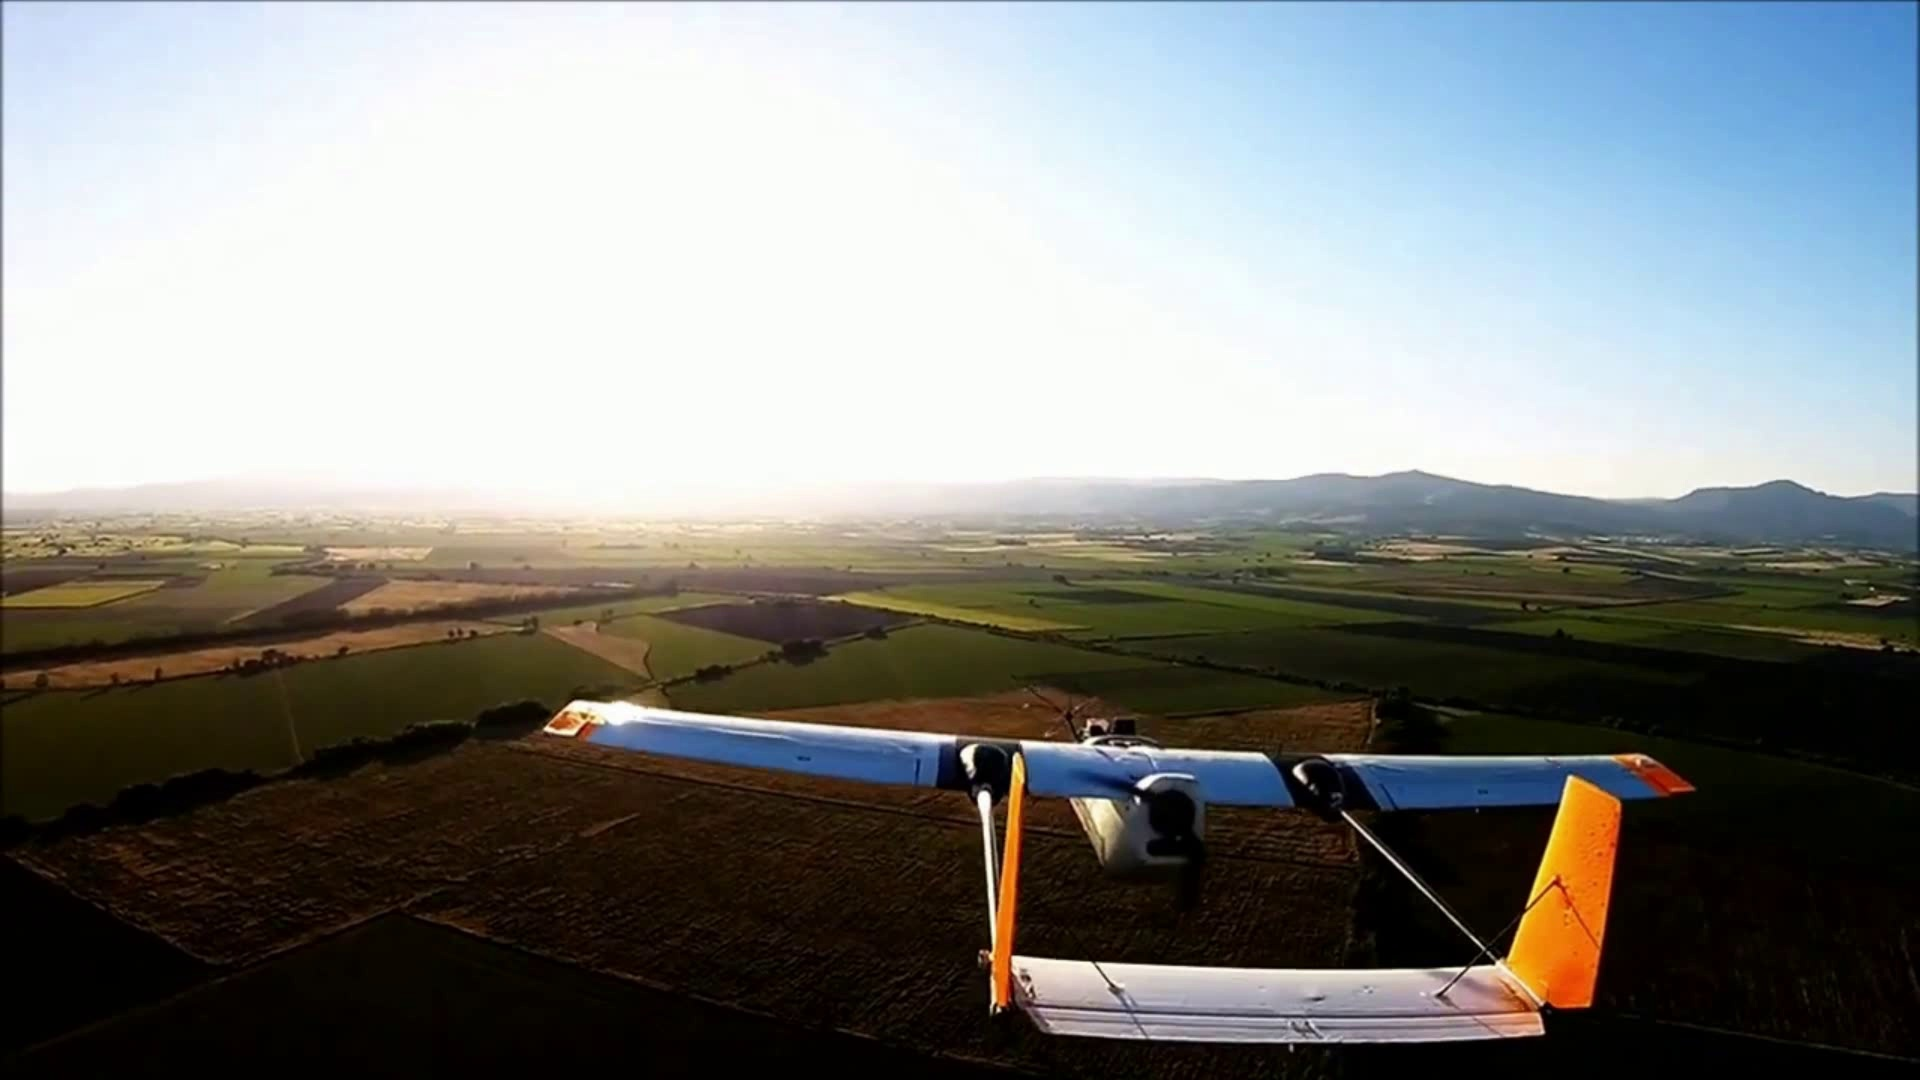airplane: (540, 702, 1700, 1046)
